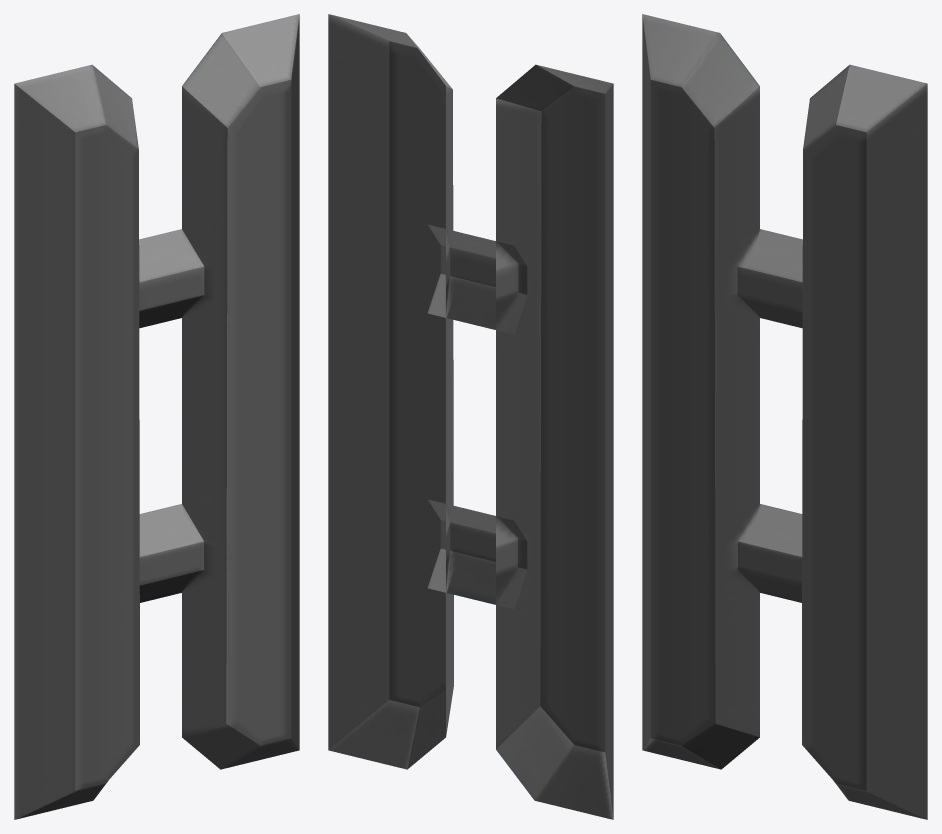
3 renders of one model, left to right at view 1: azimuth 30°, elevation 25°; view 2: azimuth 150°, elevation 25°; view 3: azimuth 330°, elevation 25°, orthographic.
Visible parts, largest first — view 1: left, right, middle; view 2: right, left, middle; view 3: right, left, middle.
Part boxes in pixels (x1,y1,x2,y2): left: [14, 64, 139, 819]; right: [182, 14, 299, 769]; middle: [139, 229, 204, 602]; right: [328, 14, 453, 769]; left: [496, 64, 613, 819]; middle: [427, 224, 527, 609]; right: [802, 64, 927, 819]; left: [642, 14, 759, 769]; middle: [737, 229, 802, 602].
Size of the model in its own units: 0.5018 by 1.24 by 0.08.
1 material, 1 textured.
